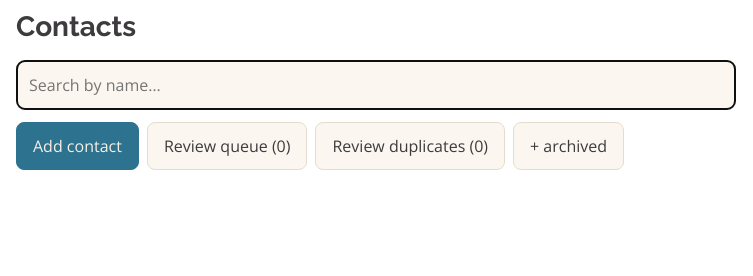
it: contacts launcher — duplicates view (feature 064) › shows an empty state when there are no global pairs
Click the button "Review duplicates (0)" at (410, 146), box [316,122,505,170]
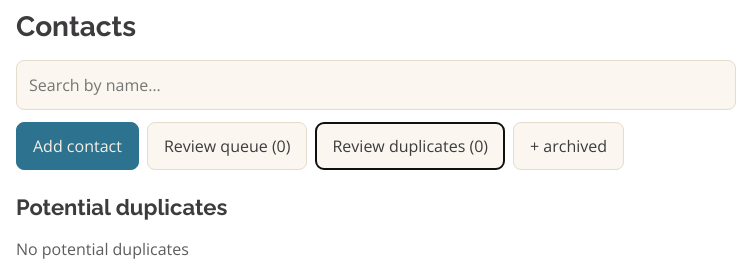
Check: the text "No potential duplicates" is shown, box [16,238,189,260]
